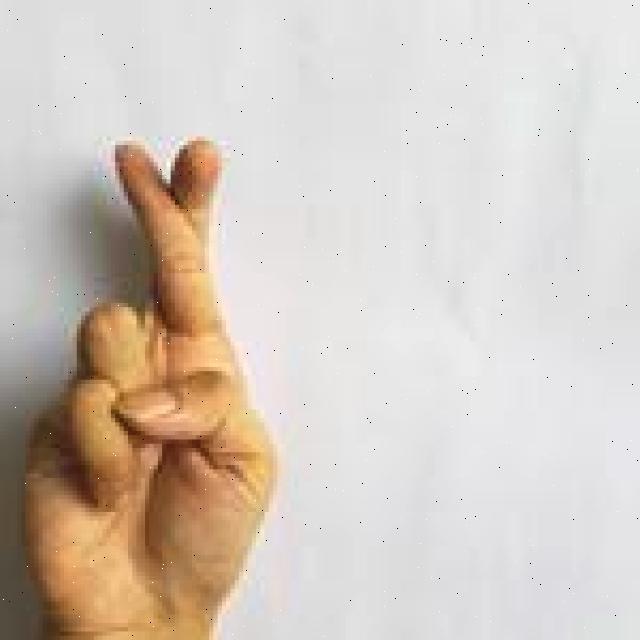R: (19, 132, 283, 640)
